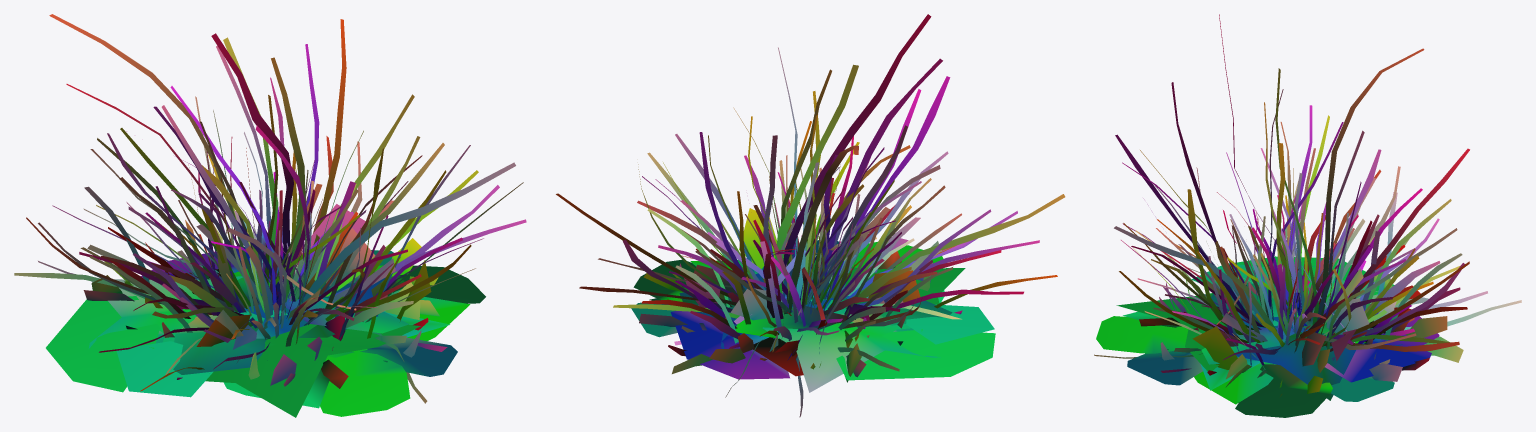
File: Wild_Grass_vdilbaiia_Mid_vdilbaiia_VarC_LOD2.fbx
3 views of the same model, side by side, from view 1: azimuth 30°, elevation 25°; view 2: azimuth 150°, elevation 25°; view 3: azimuth 270°, elevation 25° (orthographic). The views are drawn at different scales.
Parts seen in each view (by area): view 1: _i8eh_VarC_LOD3; view 2: _i8eh_VarC_LOD3; view 3: _i8eh_VarC_LOD3.
Boxes of the visible parts, x1,y1,x2,y2 form: _i8eh_VarC_LOD3: [14, 14, 526, 417]; _i8eh_VarC_LOD3: [556, 14, 1065, 417]; _i8eh_VarC_LOD3: [1094, 14, 1521, 417].
Bounding box in the file's own units: 87.95 × 69.49 × 91.61.
